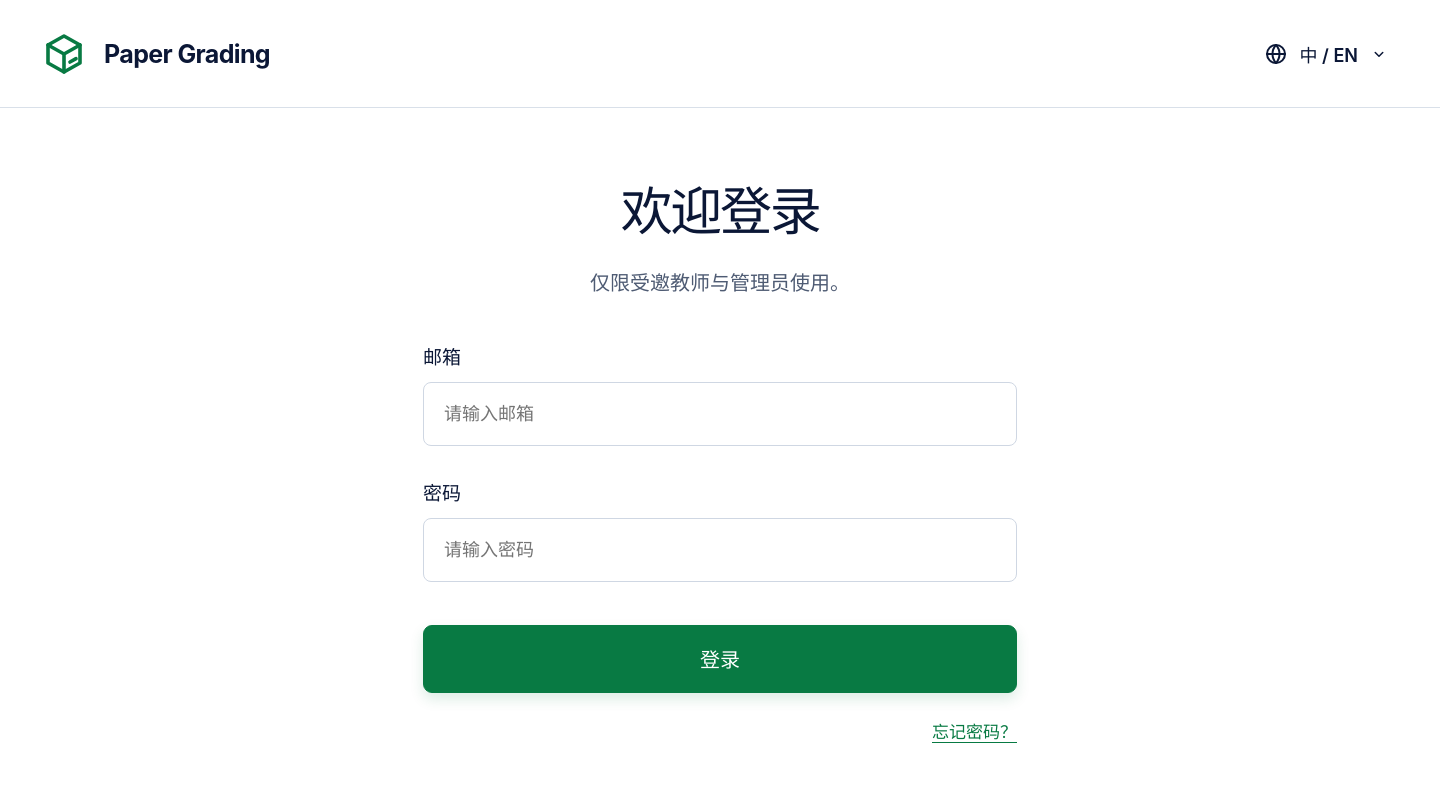
登录流程 › 登录页语言开关会切换可见文案
The image size is (1440, 810).
Click the button with aria-label "Switch to English" at (1326, 54), box [1252,28,1400,80]
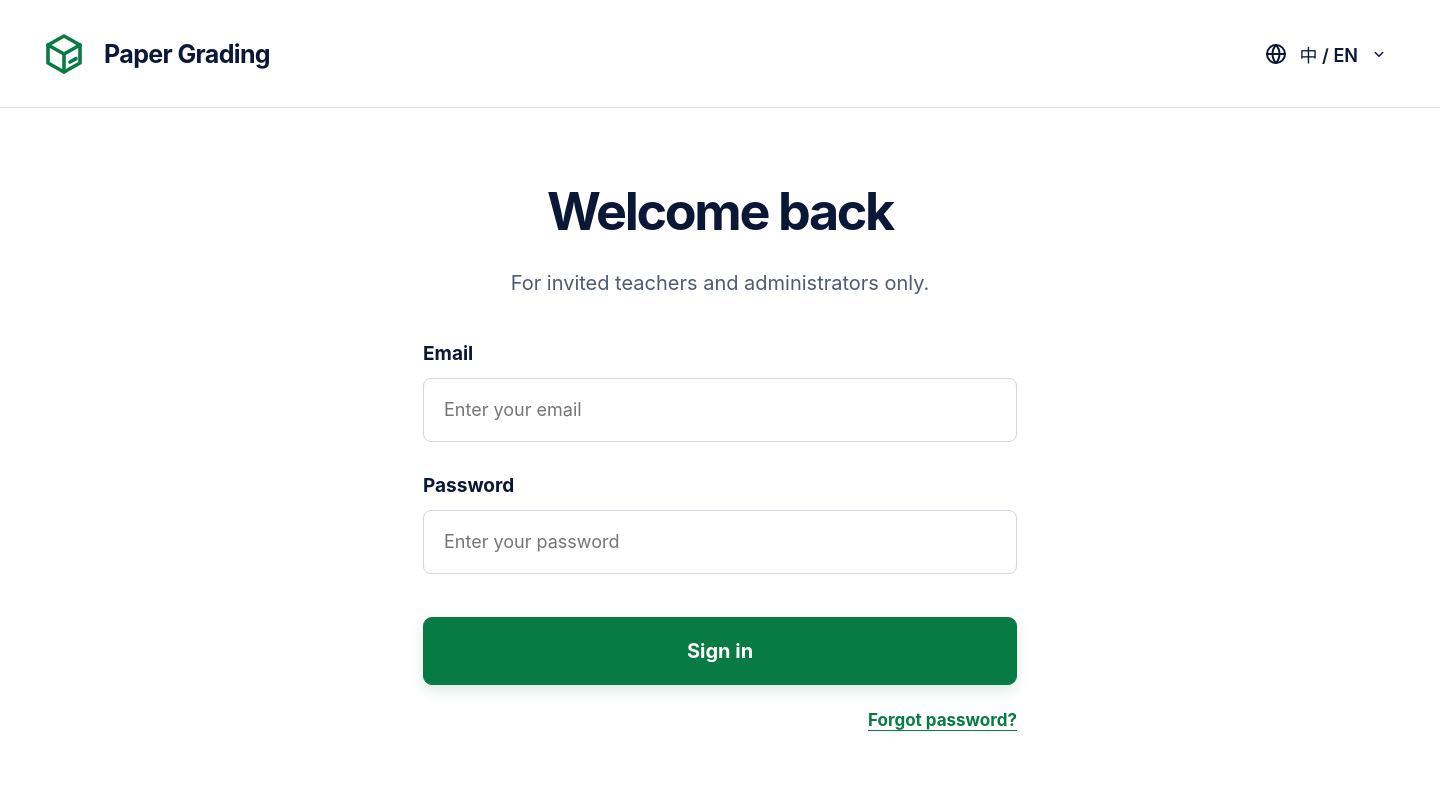
Expected: the field labelled "Email" is shown, [423,378,1017,442]
Now the heading "Welcome back" is shown, box [547,180,893,243]
